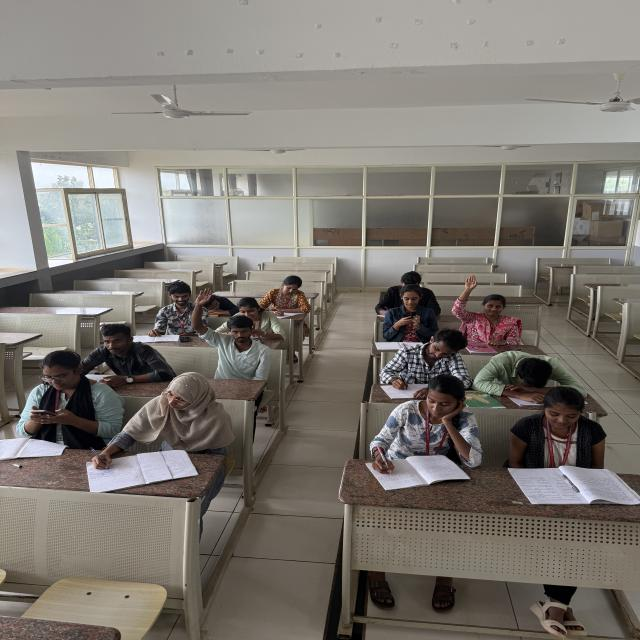Hand Rising: (188, 290, 282, 377), (448, 269, 540, 340)
Reading: (499, 393, 627, 502)
Sleeping: (472, 347, 598, 401), (194, 286, 238, 315)
Using Phone: (9, 352, 116, 448), (384, 288, 440, 332), (223, 298, 285, 336)
Writing: (87, 379, 223, 489), (362, 377, 490, 486), (366, 332, 479, 397), (364, 264, 441, 314), (256, 277, 322, 318)
